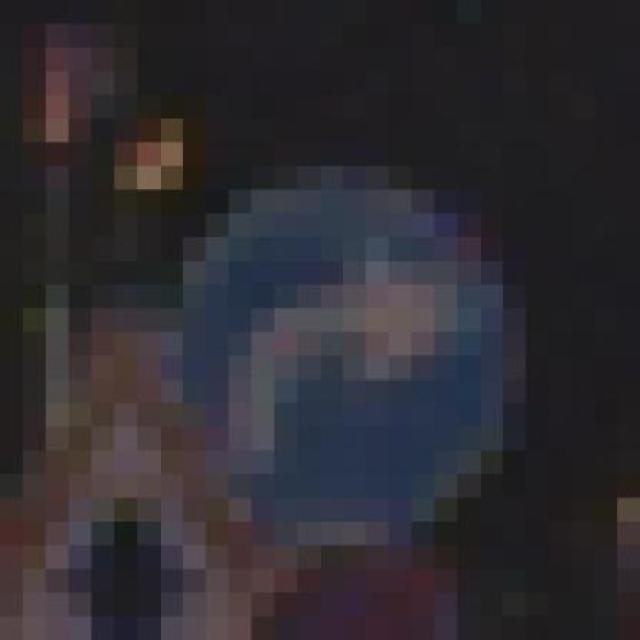Turn right ahead: (91, 142, 572, 569)
